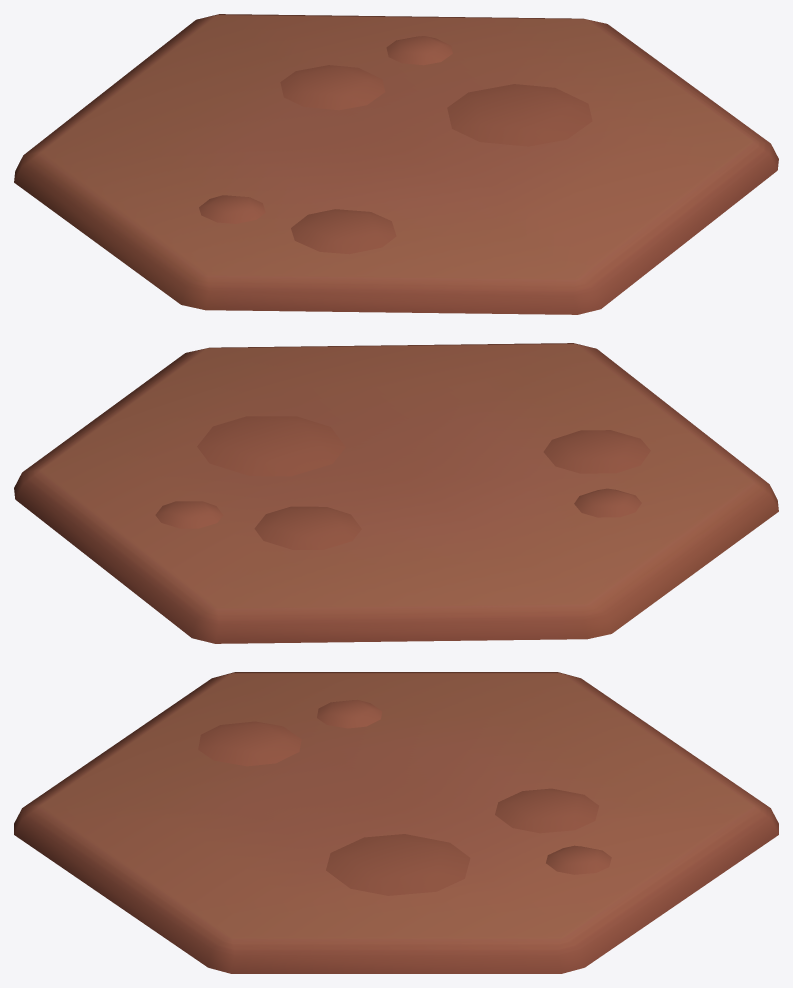
The model's file is kay-terreno-obra.gltf.
The picture shows the model from 3 angles, top to bottom: view 1: azimuth 30°, elevation 25°; view 2: azimuth 150°, elevation 25°; view 3: azimuth 270°, elevation 25°; orthographic projection.
Visible parts, largest first — view 1: building_dirt; view 2: building_dirt; view 3: building_dirt.
Part boxes in pixels (x1,y1,x2,y2): building_dirt: (14,14,778,314); building_dirt: (14,343,778,643); building_dirt: (14,672,778,973).
Bounding box in the file's own units: 8.97 × 0.4324 × 10.03.
Materials: 1 (1 with a texture image).
